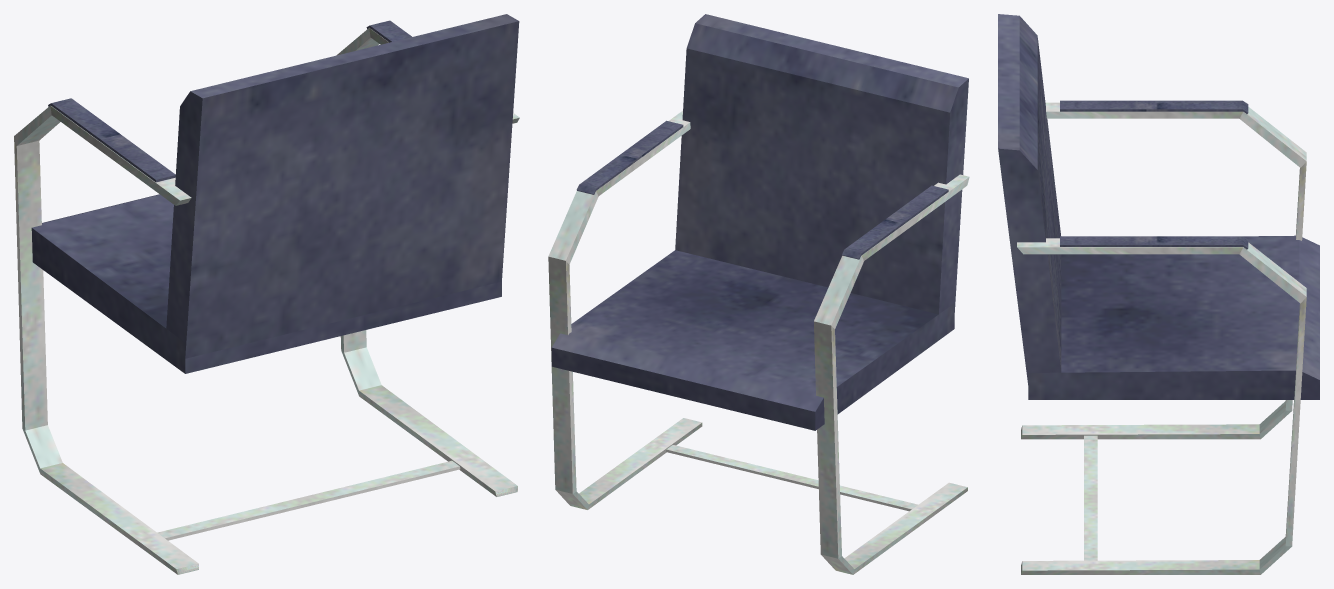
Rendered from conference_chair_blue.fbx.
The picture shows the model from 3 angles, left to right: view 1: azimuth 30°, elevation 25°; view 2: azimuth 150°, elevation 25°; view 3: azimuth 270°, elevation 25°; orthographic projection. The views are drawn at different scales.
Parts seen in each view (by area): view 1: conference_chair_blue; view 2: conference_chair_blue; view 3: conference_chair_blue.
Boxes of the visible parts, box(x1,y1,x2,y2) form: conference_chair_blue: box(14, 14, 519, 574); conference_chair_blue: box(548, 14, 969, 574); conference_chair_blue: box(998, 14, 1319, 574).
Bounding box in the file's own units: 74.95 × 101 × 70.18.
Materials: 1 (1 with a texture image).
